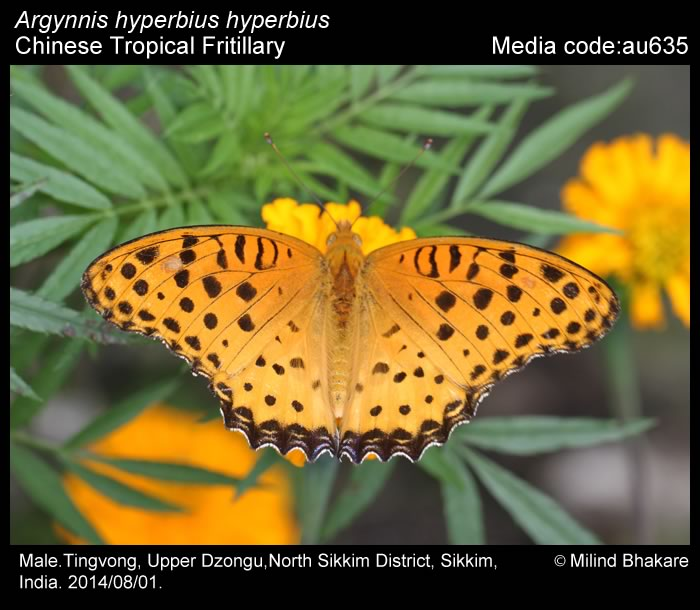Argyreus hyperbius: (71, 120, 622, 467)
butterfly: (73, 122, 624, 469)
